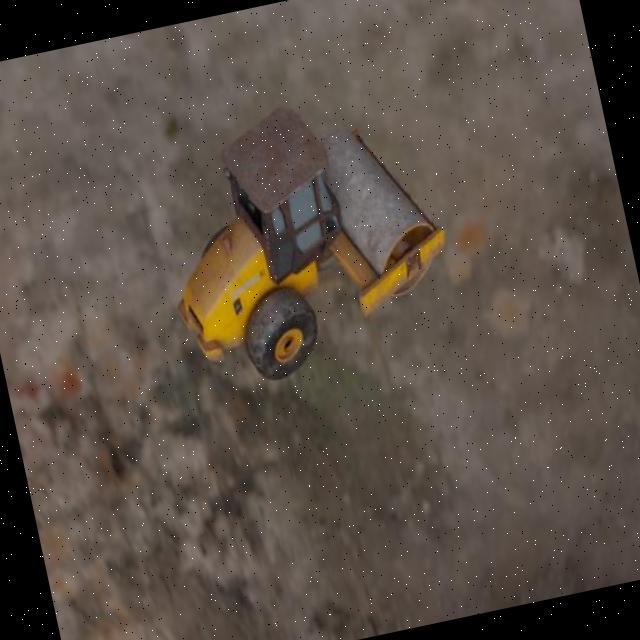Roller: (140, 78, 467, 396)
